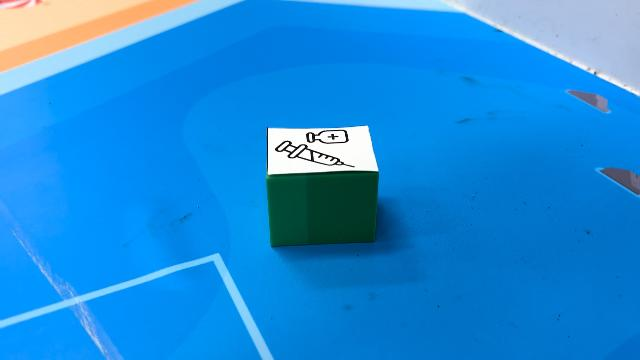syringe: (266, 126, 382, 246)
